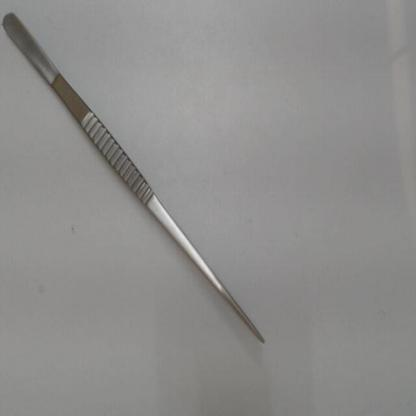DeBakey Dissector: (1, 5, 284, 363)
